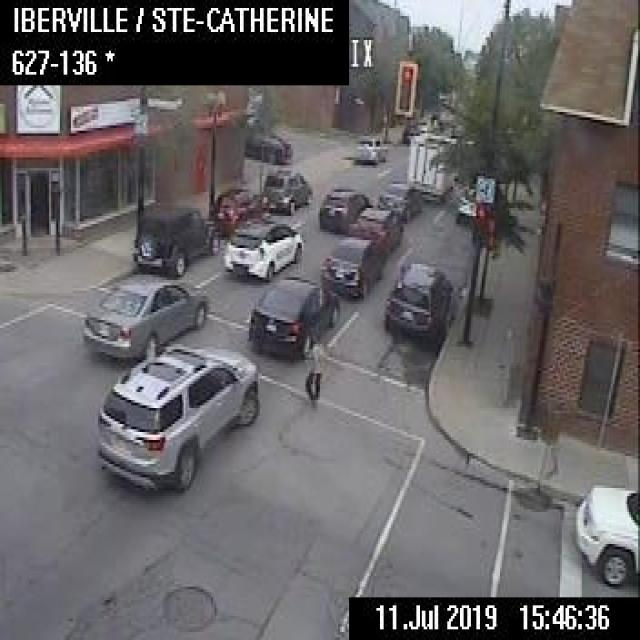pedestrian: (302, 328, 322, 403)
vehicle: (96, 342, 258, 492), (81, 270, 207, 359), (247, 272, 338, 356), (573, 480, 638, 589), (131, 202, 219, 276), (383, 258, 453, 344), (222, 216, 303, 276), (319, 234, 383, 299), (406, 130, 458, 201), (348, 205, 402, 254), (213, 184, 266, 232), (317, 186, 372, 230), (261, 166, 311, 213), (376, 180, 421, 222), (244, 126, 291, 162), (353, 133, 385, 163), (453, 184, 475, 224), (400, 123, 418, 140), (415, 115, 432, 130)
